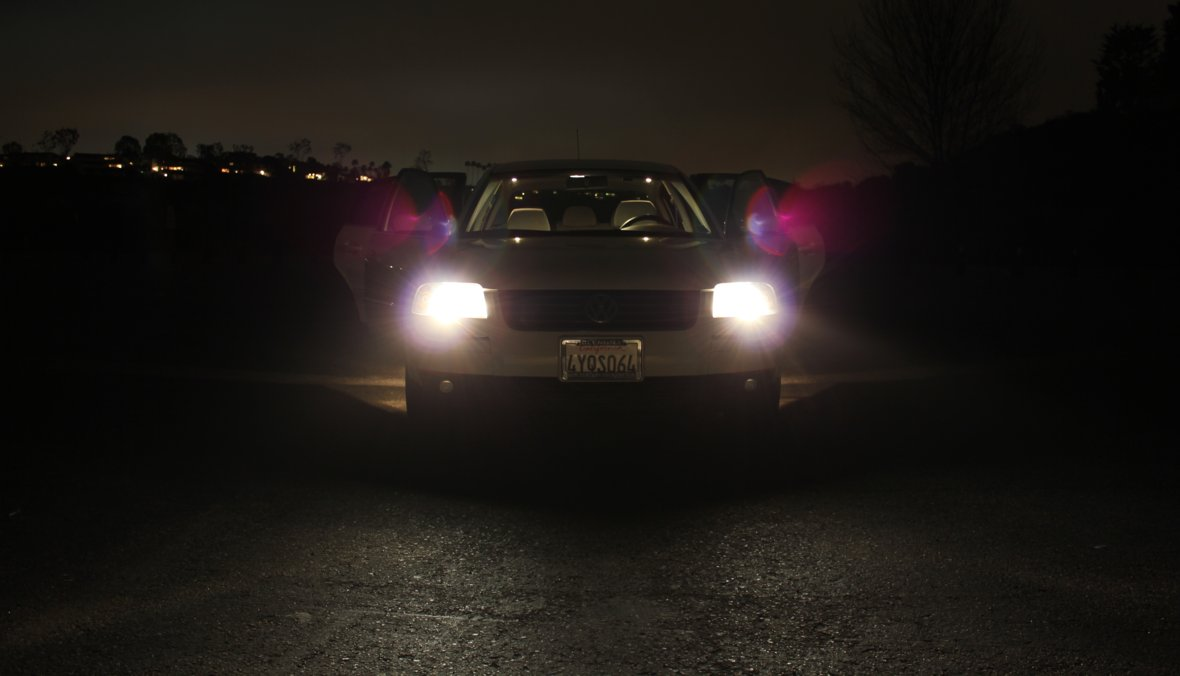car: (322, 150, 824, 473)
